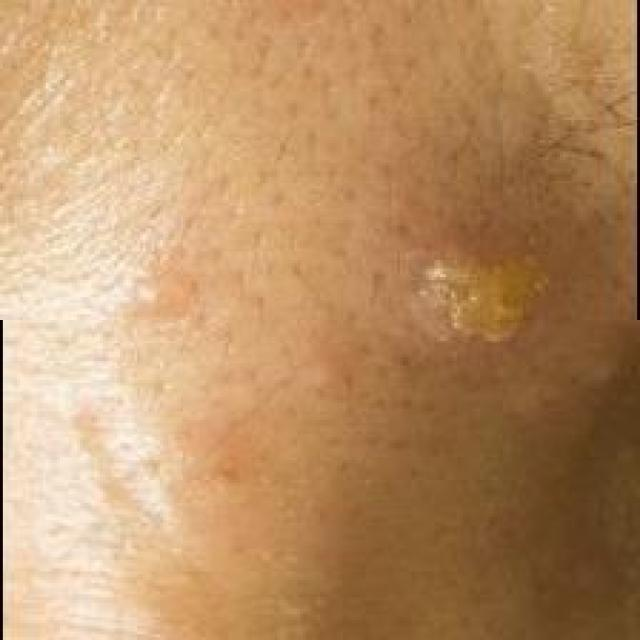others: (48, 47, 597, 640)
